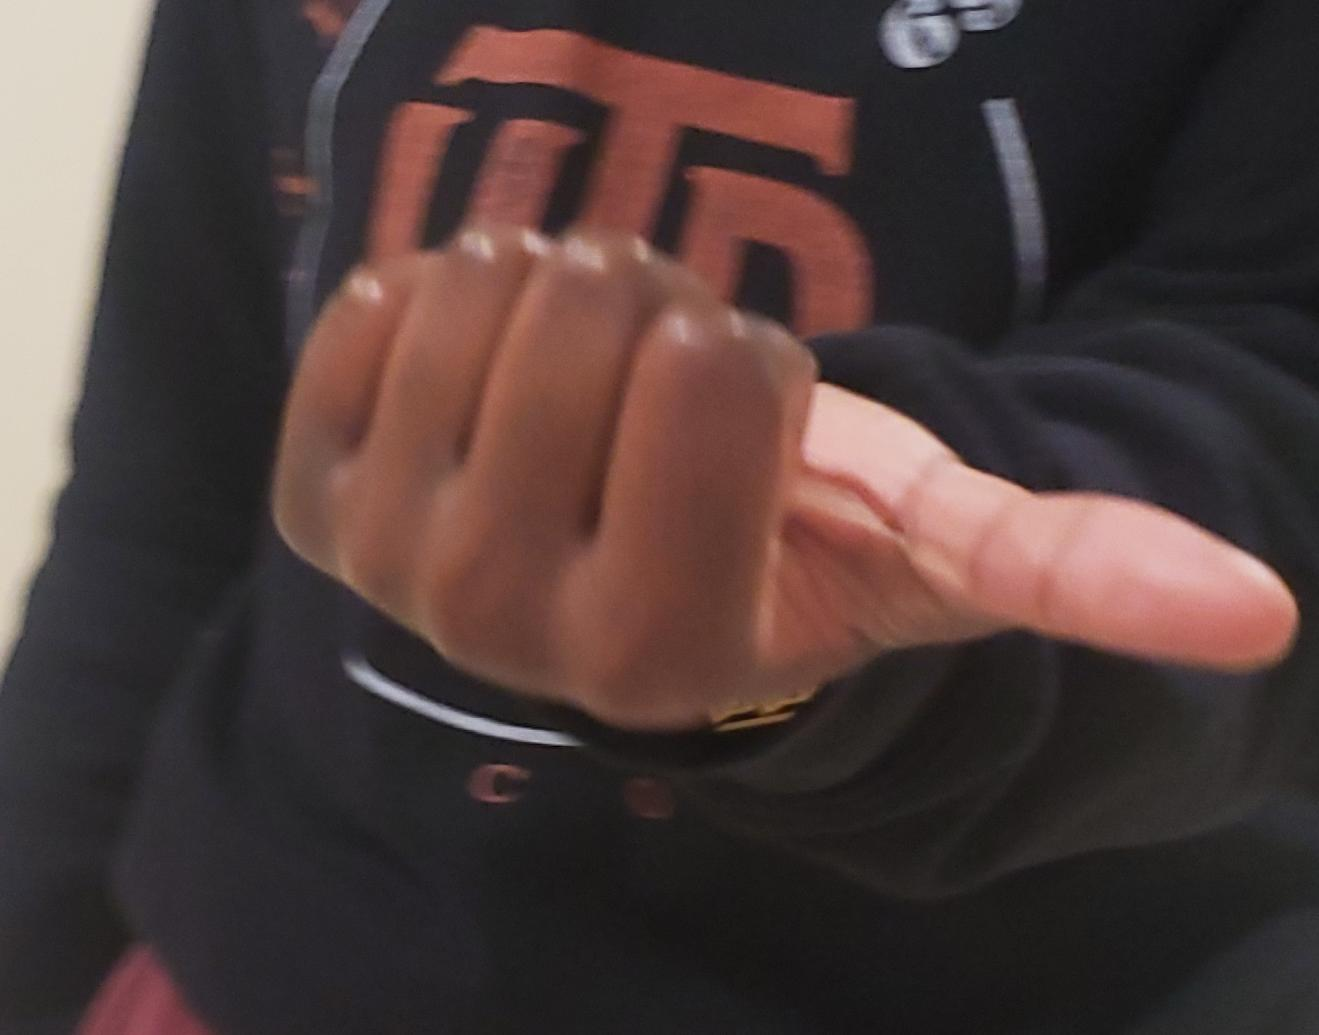left: (1, 0, 1319, 1035)
